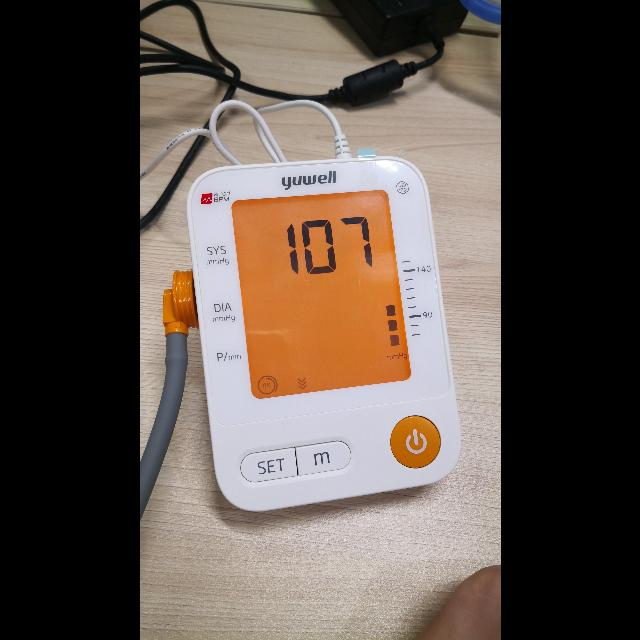Blood-Pressure-Monitor: (187, 158, 459, 512)
